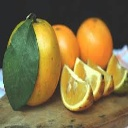orange: (5, 13, 61, 106), (77, 16, 114, 70), (61, 63, 94, 112)
